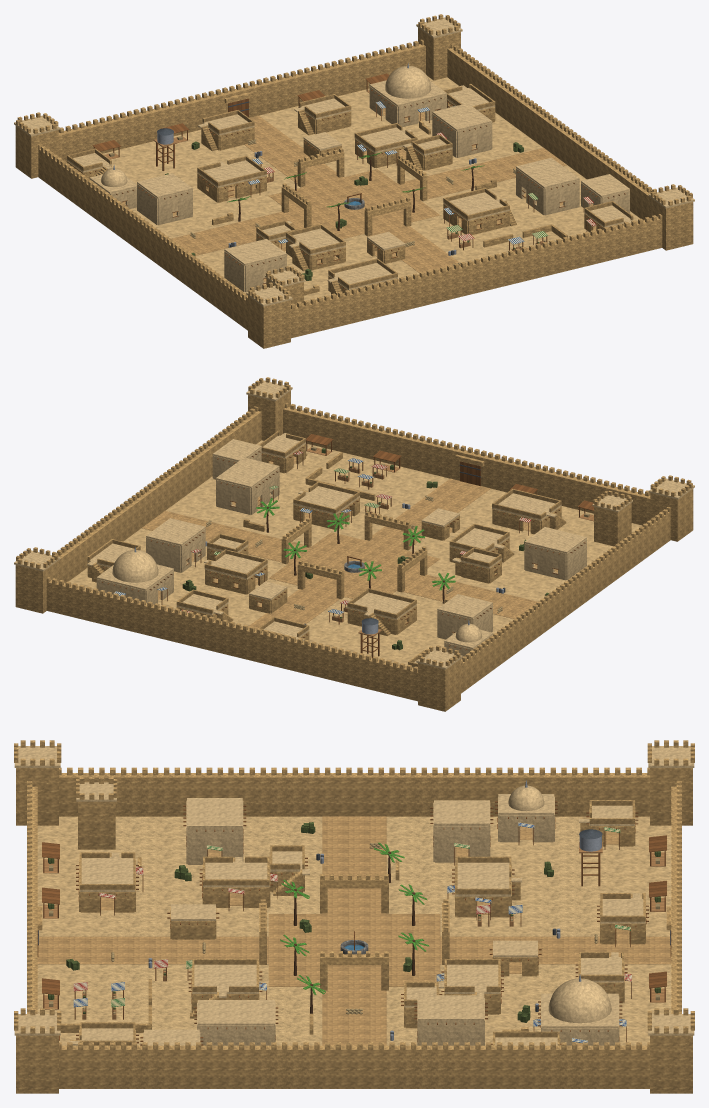
The model's file is map_dust.glb.
3 renders of one model, top to bottom at view 1: azimuth 30°, elevation 25°; view 2: azimuth 150°, elevation 25°; view 3: azimuth 270°, elevation 25°, orthographic. The views are drawn at different scales.
Parts seen in each view (by area): view 1: sandbrick, plaster, sand, floortile, wood, nocol_sandbrick, nocol_wood; view 2: sandbrick, plaster, sand, floortile, wood, leaves, nocol_sandbrick, nocol_wood, woodlight, crate; view 3: sandbrick, sand, plaster, floortile, wood, nocol_wood, woodlight, crate, leaves, cloth_blue, nocol_sandbrick, cloth_red (+1 smaller).
Part boxes in pixels (box(x1,y1,x2,y2)): sandbrick: box(15, 14, 693, 348); plaster: box(14, 17, 694, 306); sand: box(103, 76, 640, 301); floortile: box(122, 108, 596, 281); wood: box(92, 73, 592, 250); nocol_sandbrick: box(94, 109, 625, 294); nocol_wood: box(69, 90, 625, 289); sandbrick: box(15, 377, 693, 711); plaster: box(14, 380, 694, 669); sand: box(68, 440, 641, 665); floortile: box(119, 457, 557, 633); wood: box(161, 434, 593, 657); leaves: box(256, 498, 455, 590); nocol_sandbrick: box(92, 453, 566, 640); nocol_wood: box(98, 447, 585, 650); woodlight: box(306, 447, 593, 636); crate: box(182, 448, 549, 650); sandbrick: box(14, 740, 694, 1093); sand: box(37, 816, 671, 1045); plaster: box(14, 746, 694, 1045); floortile: box(37, 816, 671, 1045); wood: box(37, 827, 671, 1042); nocol_wood: box(76, 801, 648, 1045); woodlight: box(43, 842, 665, 1019); crate: box(48, 822, 660, 1022); leaves: box(280, 842, 428, 994); cloth_blue: box(73, 822, 626, 1043); nocol_sandbrick: box(70, 817, 632, 1040); cloth_red: box(73, 867, 631, 991).
Size of what is drawn, in the model's own units: 127 by 13.74 by 127.
Materials: 17 (17 with a texture image).
